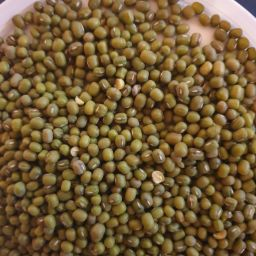Green gram dal(moong): (74, 3, 196, 256), (20, 11, 130, 253), (63, 71, 232, 213), (167, 2, 256, 256), (1, 22, 51, 256)
